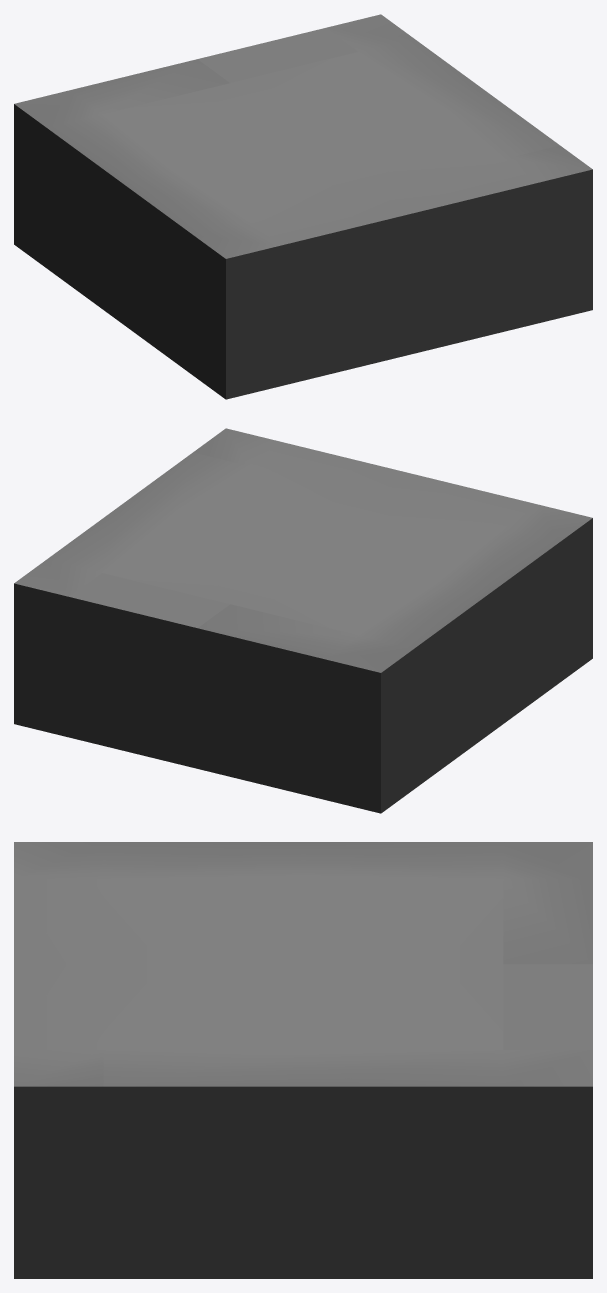
File: rock_full.fbx
3 renders of one model, top to bottom at view 1: azimuth 30°, elevation 25°; view 2: azimuth 150°, elevation 25°; view 3: azimuth 270°, elevation 25°, orthographic. The views are drawn at different scales.
Visible parts, largest first — view 1: rock; view 2: rock; view 3: rock.
Part boxes in pixels (left/top/right/bottom): rock: left=14, top=14, right=592, bottom=399; rock: left=14, top=428, right=592, bottom=813; rock: left=14, top=842, right=592, bottom=1278.
Size of the model in its own units: 200 by 200 by 73.23.
Materials: 1 (1 with a texture image).
